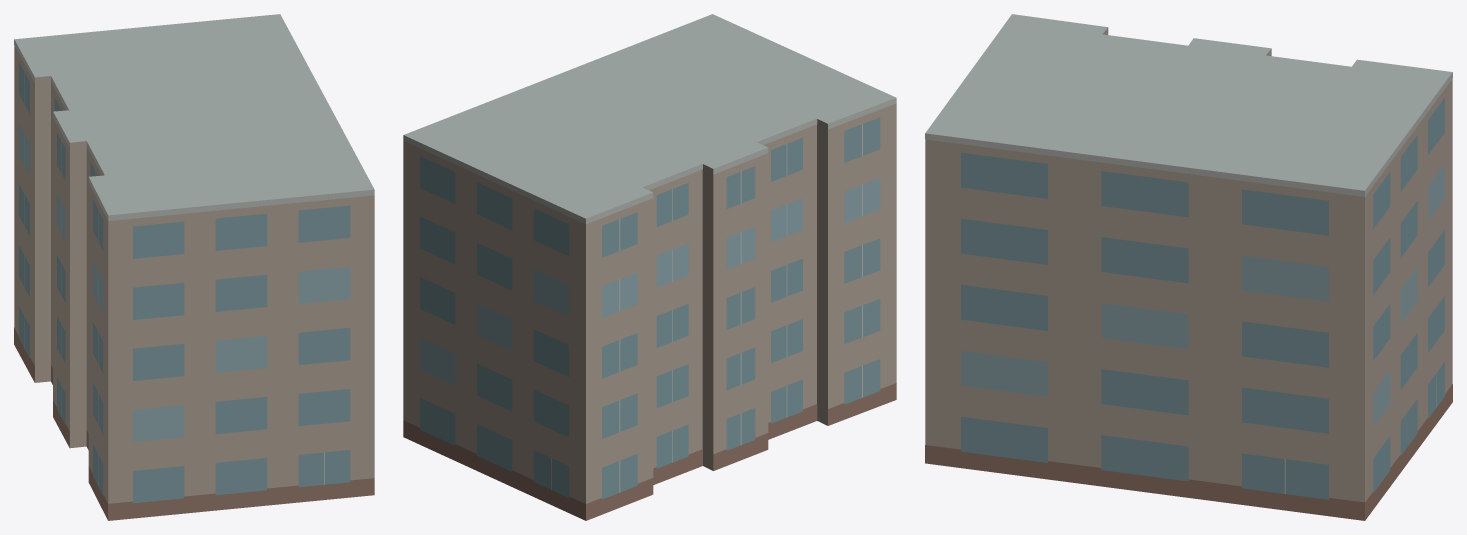
File: survey-upis-32992137.glb
3 views of the same model, side by side, from view 1: azimuth 30°, elevation 25°; view 2: azimuth 150°, elevation 25°; view 3: azimuth 270°, elevation 25° (orthographic). The views are drawn at different scales.
Visible parts, largest first — view 1: survey-upis-32992137.tmp; view 2: survey-upis-32992137.tmp; view 3: survey-upis-32992137.tmp.
Boxes of the visible parts, left/top/right/bottom form: survey-upis-32992137.tmp: left=14, top=14, right=374, bottom=520; survey-upis-32992137.tmp: left=403, top=14, right=896, bottom=520; survey-upis-32992137.tmp: left=925, top=14, right=1452, bottom=520.
Size of the model in its own units: 15.06 by 13.1 by 18.99.
